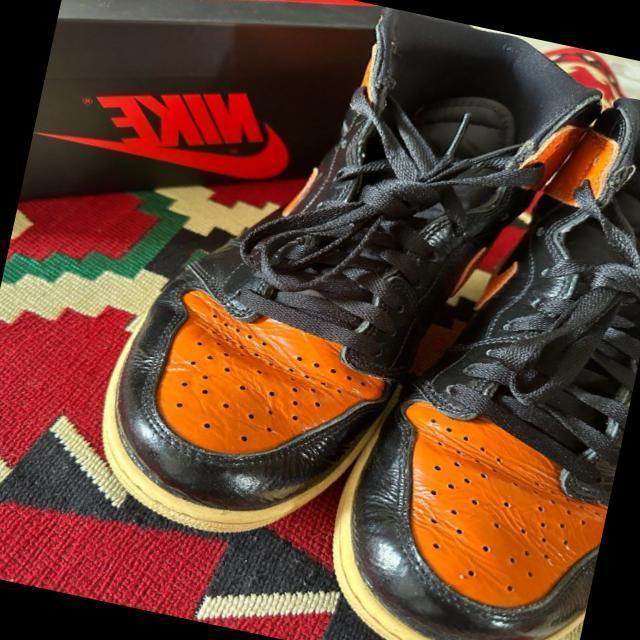nike original jordan 1: (0, 0, 621, 596), (297, 103, 640, 640)
